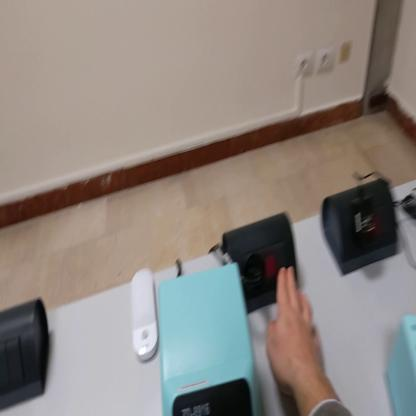hand: (266, 267, 322, 393)
socket: (218, 217, 294, 318), (323, 178, 399, 277)
welder base: (387, 314, 416, 416)
welder station: (159, 265, 261, 416)
